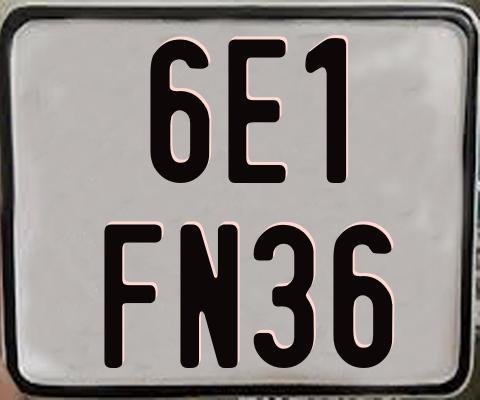1: (303, 36, 350, 181)
3: (251, 223, 315, 366)
6: (148, 37, 212, 185), (330, 222, 391, 369)
E: (227, 39, 286, 186)
F: (101, 222, 160, 370)
N: (180, 221, 242, 370)
